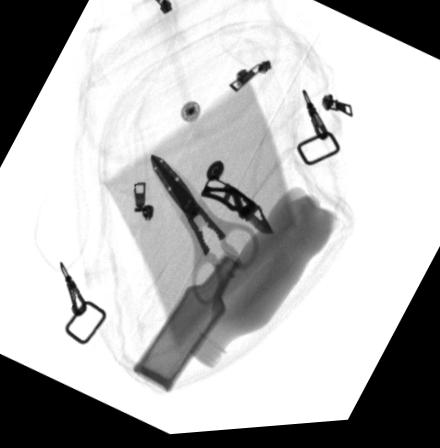Knife: (200, 176, 275, 239)
Scissors: (149, 155, 264, 312)
